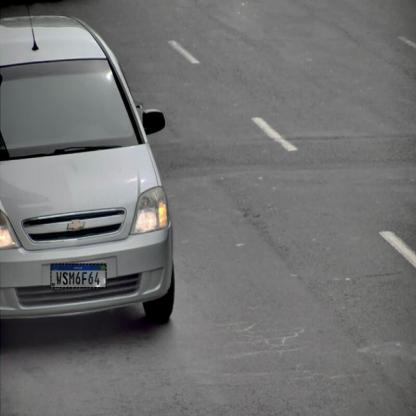PlacaM: (50, 264, 106, 288)
